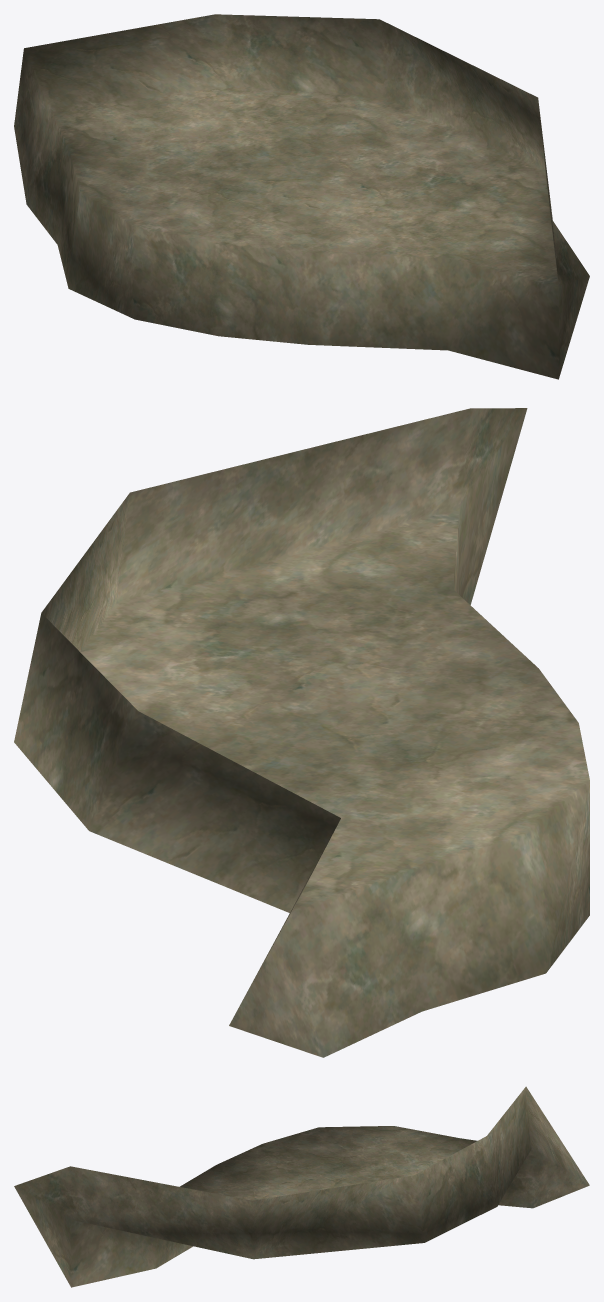
Rendered from EKH_THRONE_PS_TH_PLATFORM648.fbx.
The picture shows the model from 3 angles, top to bottom: view 1: azimuth 30°, elevation 25°; view 2: azimuth 150°, elevation 25°; view 3: azimuth 270°, elevation 25°; orthographic projection. The views are drawn at different scales.
Parts seen in each view (by area): view 1: EKH_THRONE_PS_TH_PLATFORM648; view 2: EKH_THRONE_PS_TH_PLATFORM648; view 3: EKH_THRONE_PS_TH_PLATFORM648.
Boxes of the visible parts, bbox=[...] form: EKH_THRONE_PS_TH_PLATFORM648: bbox=[14, 14, 589, 379]; EKH_THRONE_PS_TH_PLATFORM648: bbox=[14, 408, 589, 1057]; EKH_THRONE_PS_TH_PLATFORM648: bbox=[14, 1086, 589, 1287].
Bounding box in the file's own units: 28001 × 12370 × 49178.
Materials: 1 (1 with a texture image).
